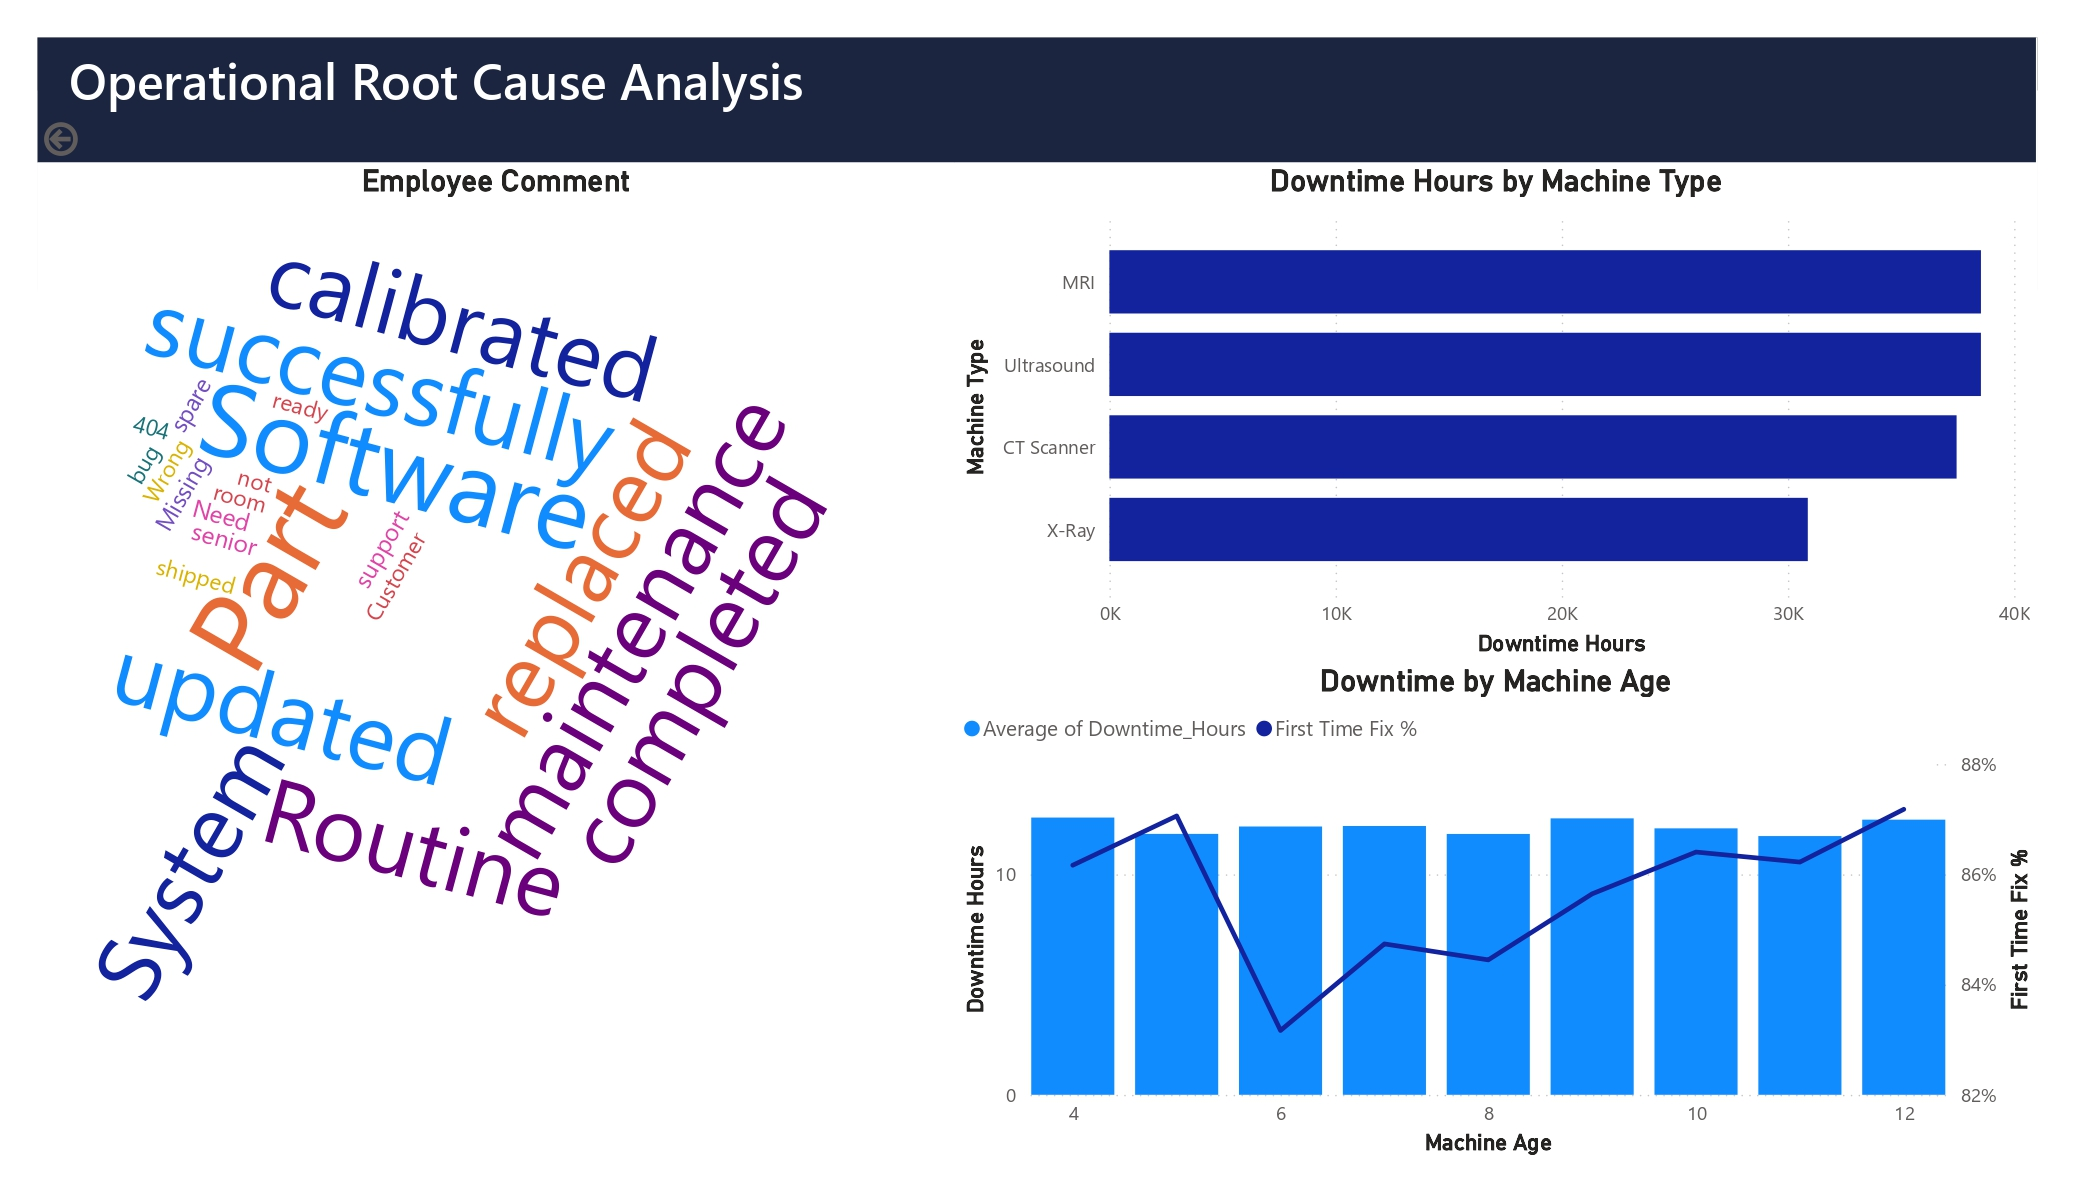

What the dashboard file says about the page in this screenshot:
{"tool":"powerbi","page":{"name":"Root Cause Analysis","canvas":[1280,720],"ordinal":3},"visuals":[{"type":"shape","box":[0,0,1279.4,80],"z":0},{"type":"textbox","box":[0,0,640,80],"z":1000},{"type":"WordCloud1447959067750","title":"Employee Comment","fields":{"Category":["Tickets.Tech_Comment"],"Values":["CountNonNull(Tickets.Ticket_ID)"]},"box":[0,80,586.7,640],"z":2000},{"type":"actionButton","box":[0,50,100,30],"z":3000},{"type":"clusteredBarChart","title":"Downtime Hours by Machine Type","fields":{"Category":["Machines.Model_Type"],"Y":["Sum(Tickets.Downtime_Hours)"]},"box":[586.7,80,693.3,320],"z":4000},{"type":"lineClusteredColumnComboChart","title":"Downtime by Machine Age","fields":{"Category":["Machines.Machine Age"],"Y":["Avg(Tickets.Downtime_Hours)"],"Y2":["DAX Measures.First Time Fix %"]},"box":[587,400,693,320],"z":5000}]}

Visuals, with their boxes in screenshot pixels (x1, y1, x2, y2):
shape: <box>38,38,2037,162</box>
textbox: <box>38,38,1038,162</box>
"Employee Comment" WordCloud1447959067750: <box>38,162,954,1162</box>
actionButton: <box>38,116,194,162</box>
"Downtime Hours by Machine Type" clusteredBarChart: <box>954,162,2038,662</box>
"Downtime by Machine Age" lineClusteredColumnComboChart: <box>955,662,2038,1162</box>
